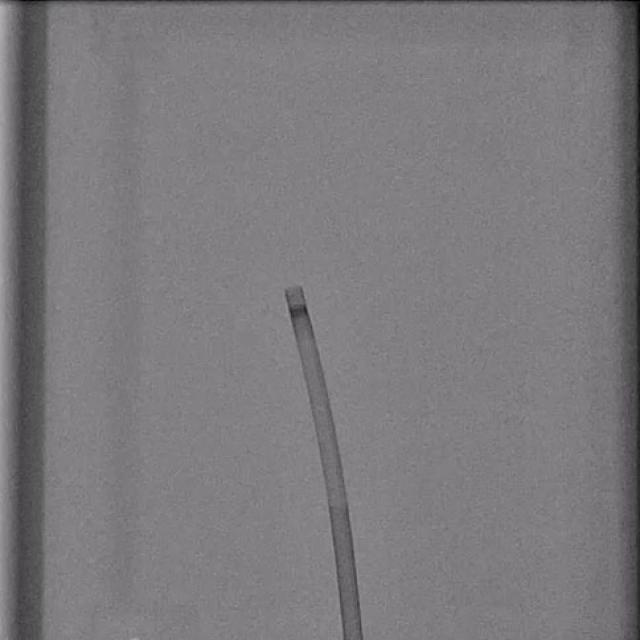bend: (327, 491, 349, 508)
entry: (343, 633, 362, 640)
marker: (287, 304, 311, 319)
tip: (285, 284, 304, 292)
